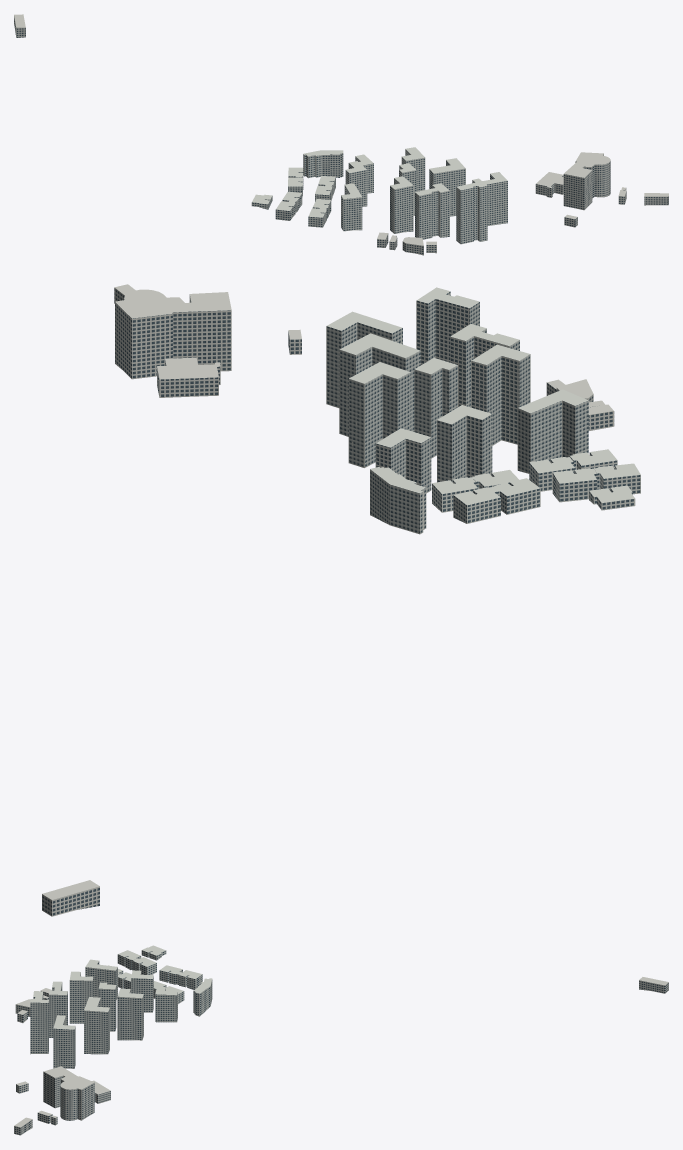
Rendered from city_-5_3.glb.
The picture shows the model from 3 angles, top to bottom: view 1: azimuth 30°, elevation 25°; view 2: azimuth 150°, elevation 25°; view 3: azimuth 270°, elevation 25°; orthographic projection. The views are drawn at different scales.
Size of the model in its own units: 551 by 85.63 by 957.
2 materials, 2 textured.
